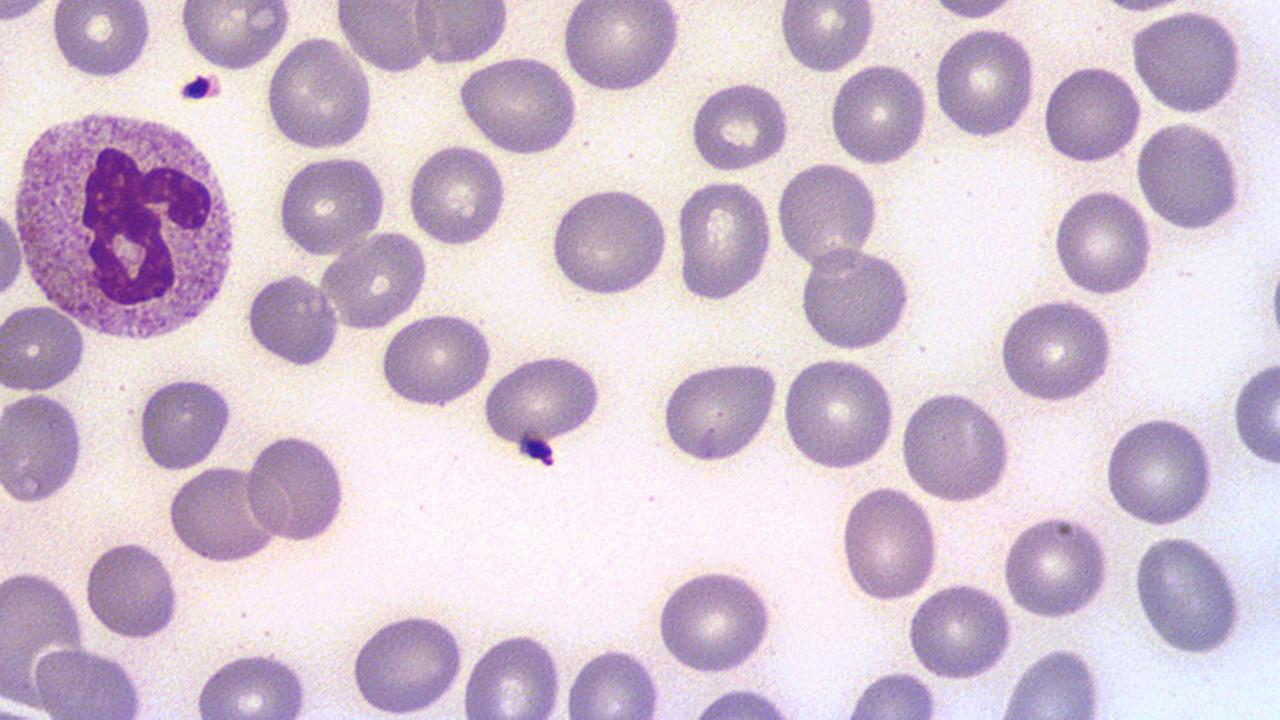Platelets: (516, 424, 558, 469), (176, 71, 220, 104)
RBC: (1130, 531, 1246, 658), (546, 183, 672, 299), (654, 563, 780, 677), (781, 352, 898, 472), (898, 386, 1016, 504), (480, 351, 608, 459), (263, 34, 376, 152), (455, 53, 581, 158), (1129, 4, 1247, 116), (996, 295, 1117, 404), (659, 356, 781, 464), (672, 176, 776, 302), (794, 246, 914, 354), (836, 484, 944, 604), (1134, 118, 1246, 233), (1103, 414, 1215, 528), (349, 608, 469, 714), (242, 428, 350, 545), (376, 308, 497, 412), (932, 25, 1039, 142), (165, 459, 281, 564), (273, 152, 389, 257), (1002, 512, 1112, 622), (776, 161, 884, 271), (1050, 186, 1156, 298), (558, 1, 684, 94), (404, 140, 510, 248), (828, 60, 932, 168), (905, 580, 1015, 682), (81, 538, 183, 641), (1041, 62, 1143, 165), (132, 373, 236, 474), (0, 388, 88, 506), (244, 268, 346, 369), (686, 78, 792, 173), (461, 627, 566, 717), (29, 644, 149, 718), (996, 640, 1109, 718), (191, 649, 315, 718), (177, 1, 295, 72), (0, 300, 89, 394), (48, 1, 153, 80), (776, 0, 878, 75), (335, 0, 436, 74), (561, 646, 665, 716), (410, 2, 510, 67), (1229, 354, 1279, 470), (0, 200, 27, 308), (928, 0, 1016, 22)
WBC: (6, 97, 244, 352)
